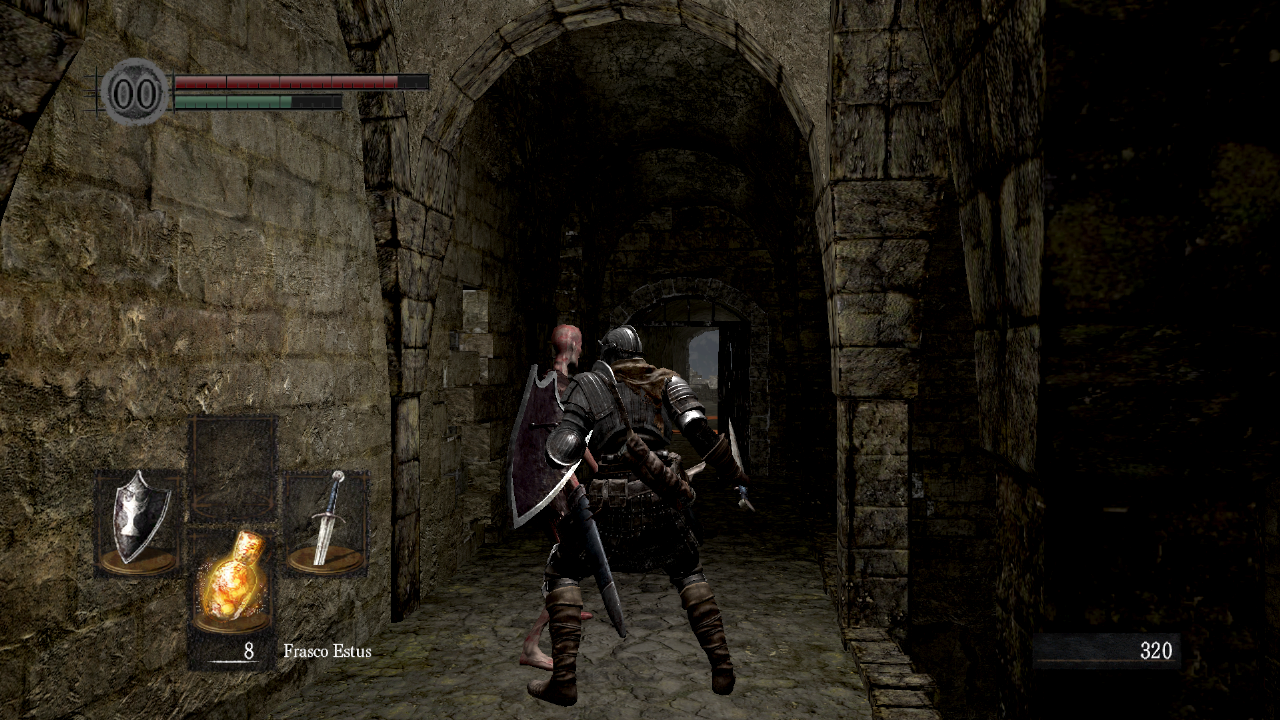hollow: (519, 324, 599, 672)
player: (509, 324, 756, 707)
